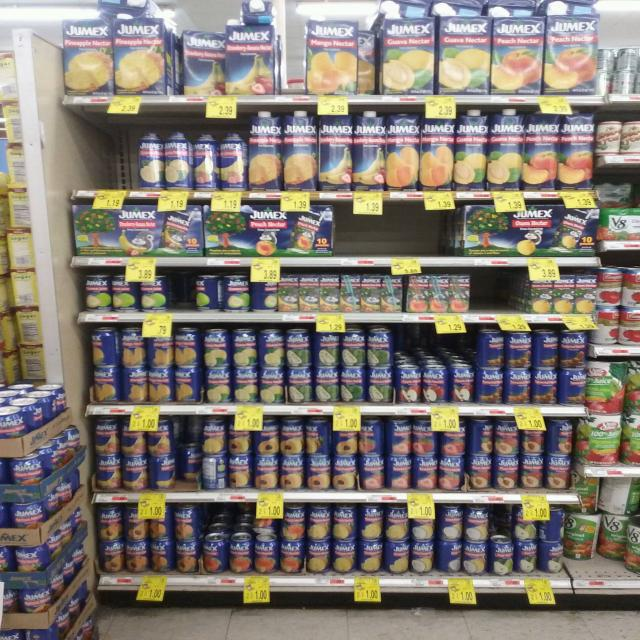unorganised: (581, 477, 620, 564), (179, 30, 227, 94), (179, 415, 204, 480), (242, 1, 274, 25)
